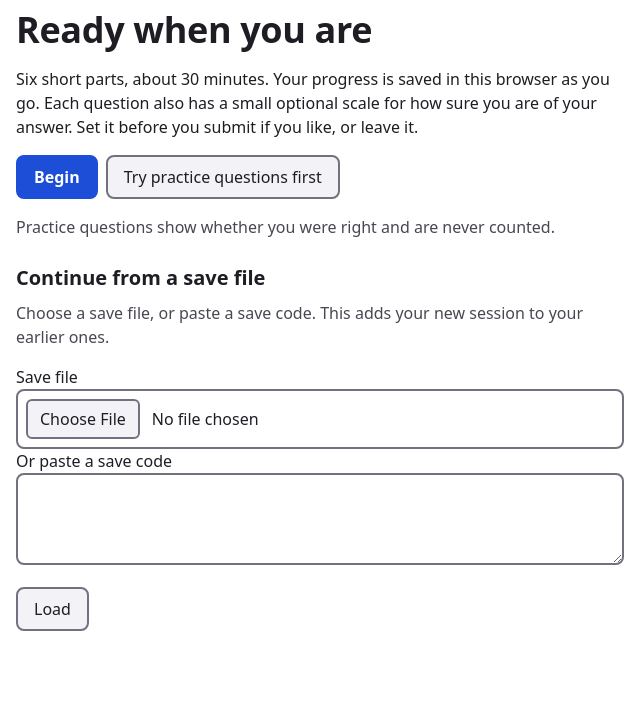
Test: Ready: Begin does not start while something chosen is not loaded (UX-012a) › a chosen file that is not loaded stops Begin and says so in an alert
The image size is (641, 704).
Step 1. Click the button "Begin" → (57, 177), box [16,155,98,199]
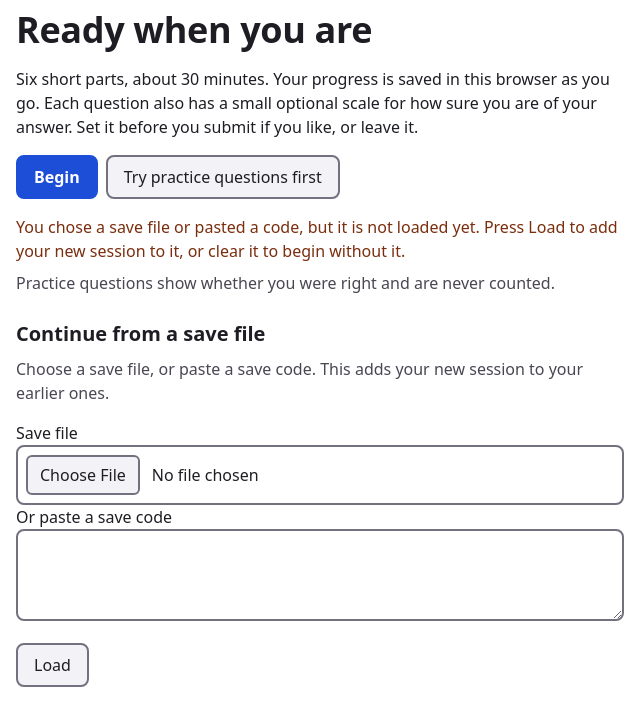
Expected: the message shows "You chose a save file or pasted a code, but it is not loaded yet. Press Load to add your new session to it, or clear it to begin without it.", [16,216,618,262]
